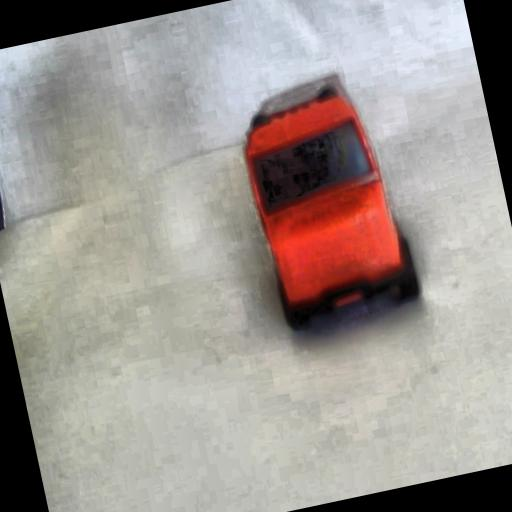fire_truck: (224, 62, 425, 336)
